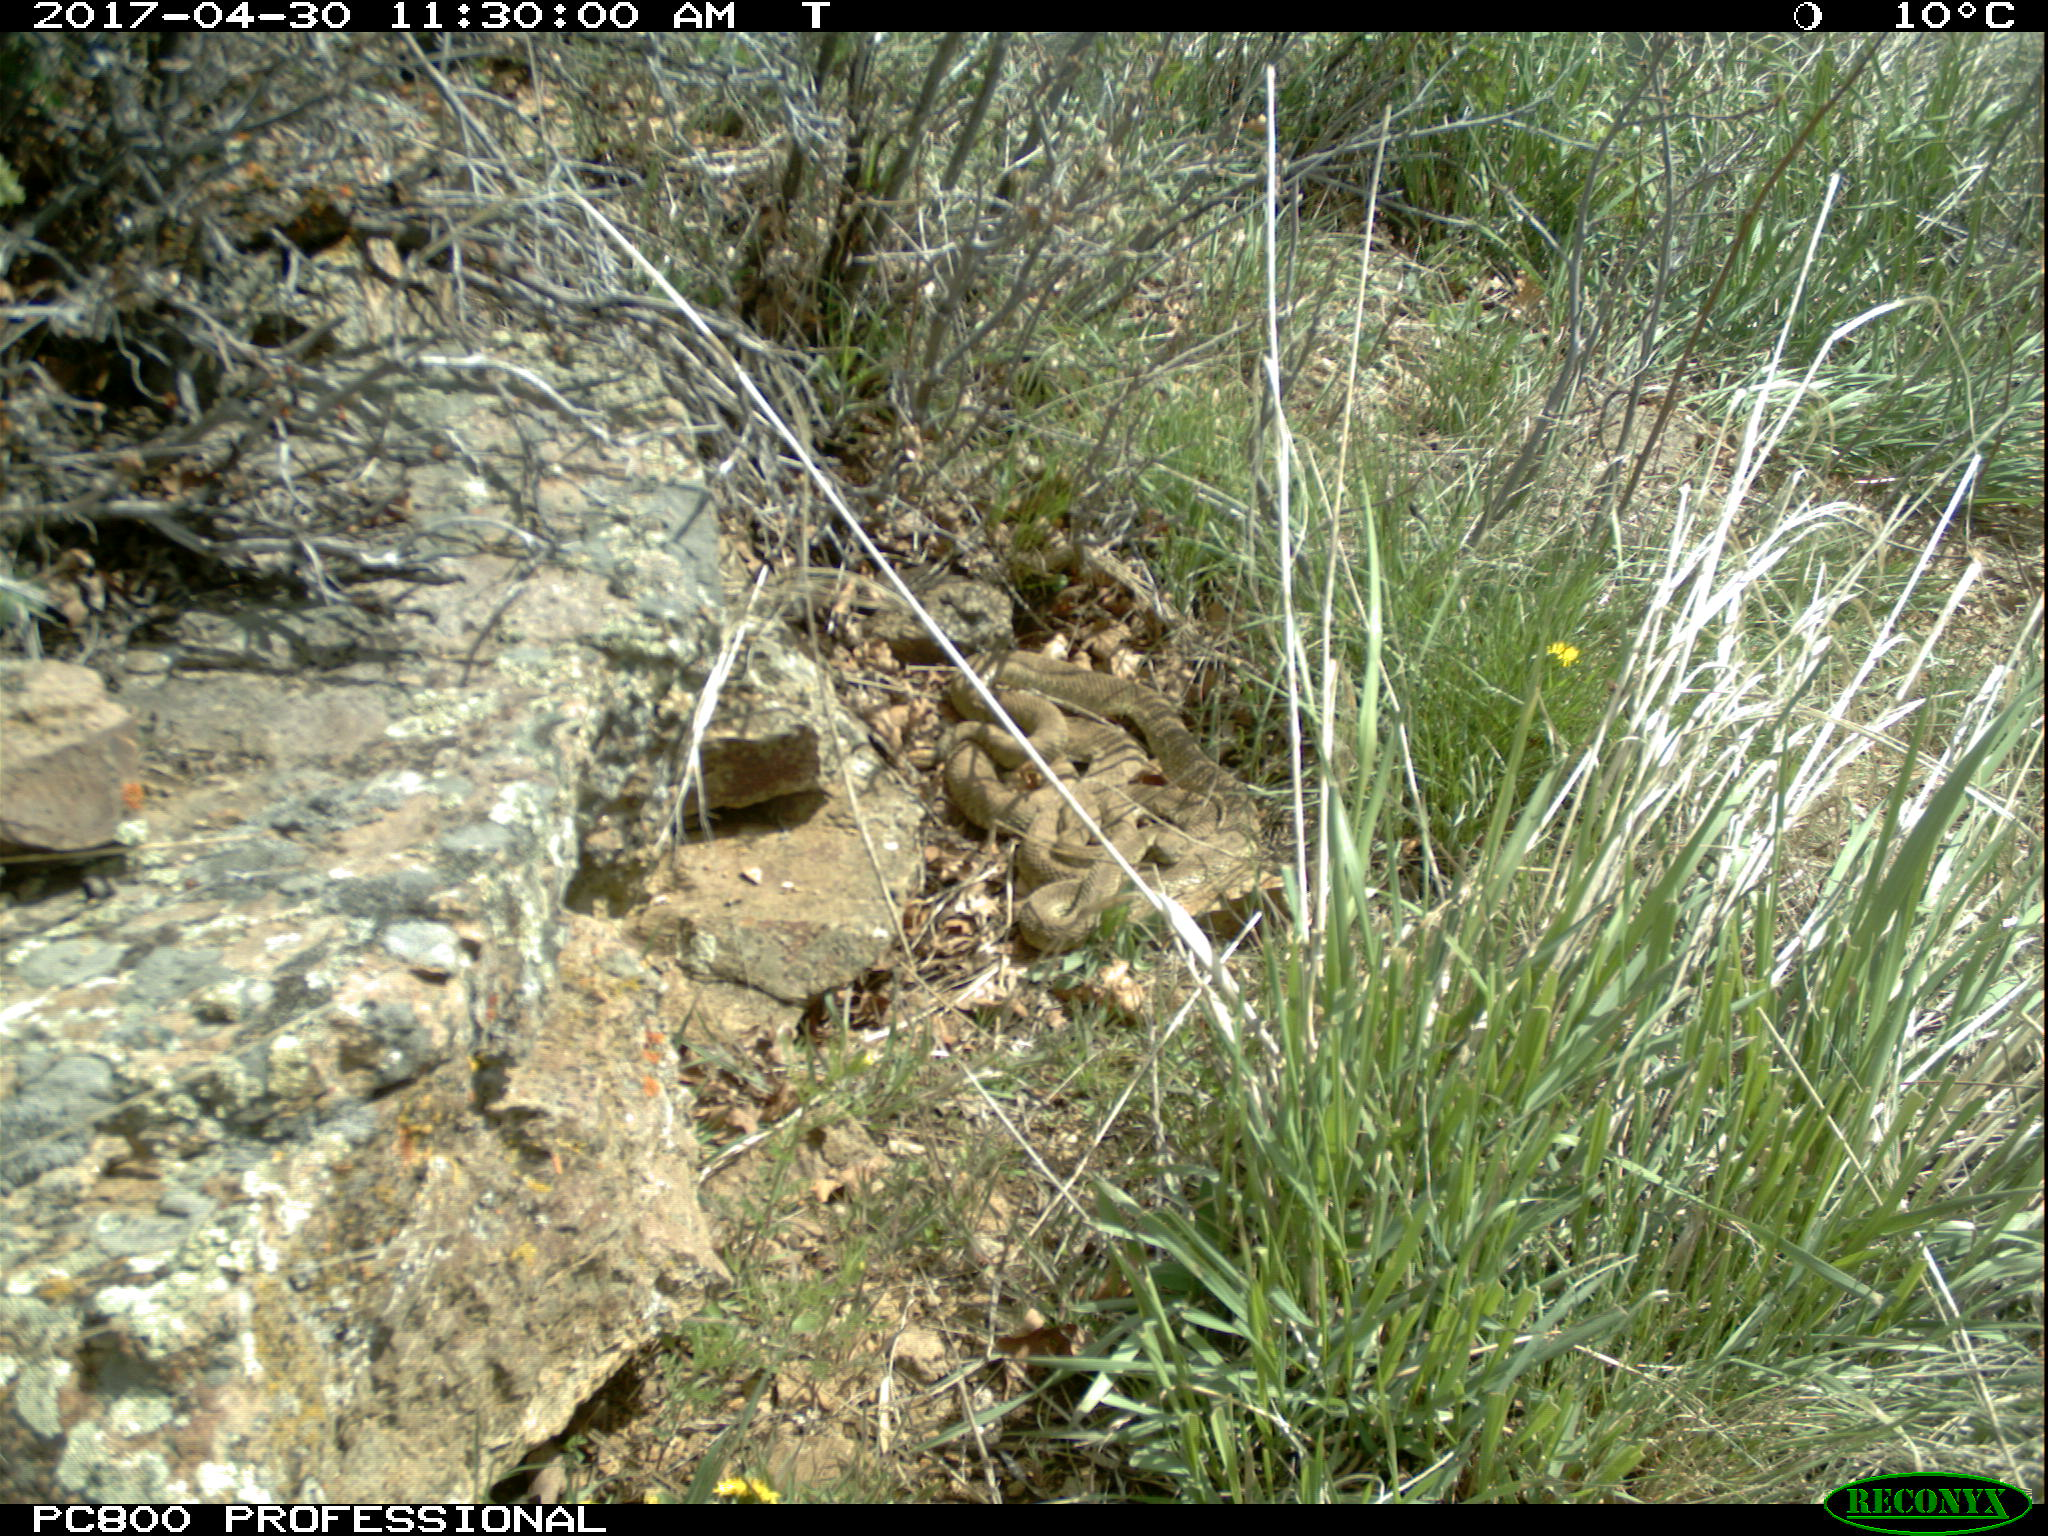snake: (935, 644, 1269, 955)
